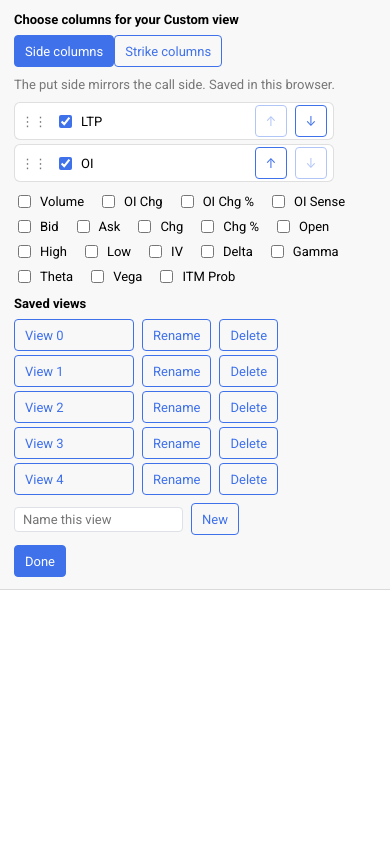
Test case: ColumnChooserComponent › clears the limit error on the next edit
Type "Sixth" into the field with placeholder "Name this view" at (98, 519), box [14, 506, 183, 532]
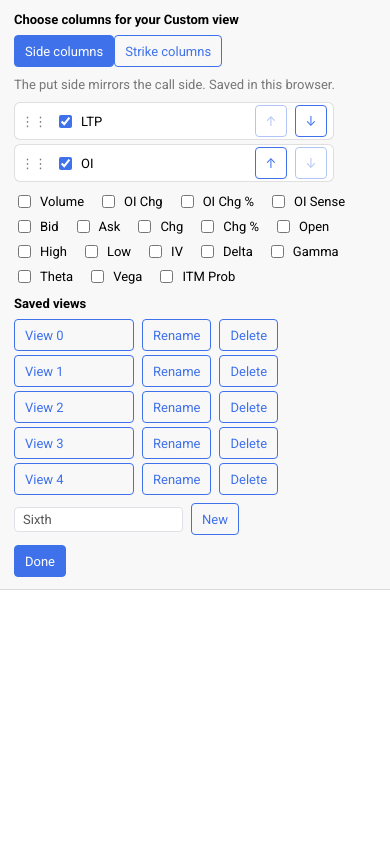
Click the button "New" at (215, 519), box [191, 503, 239, 535]
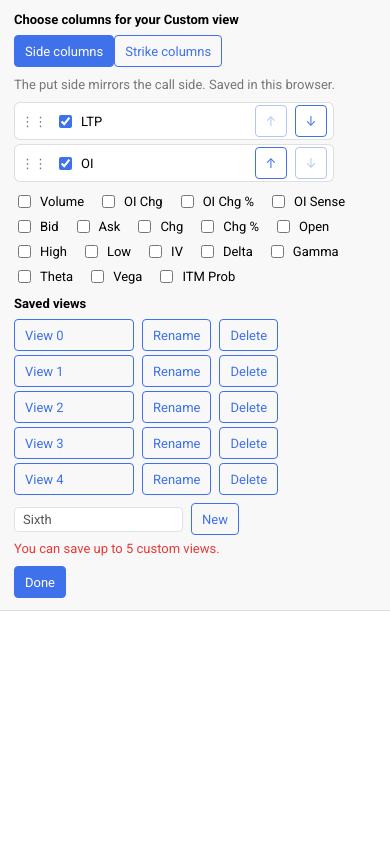
Check: the message "You can save up to 5 custom views." is shown, box [14, 541, 220, 556]
Click the 2nd button "Delete" at (249, 371), box [220, 355, 278, 387]
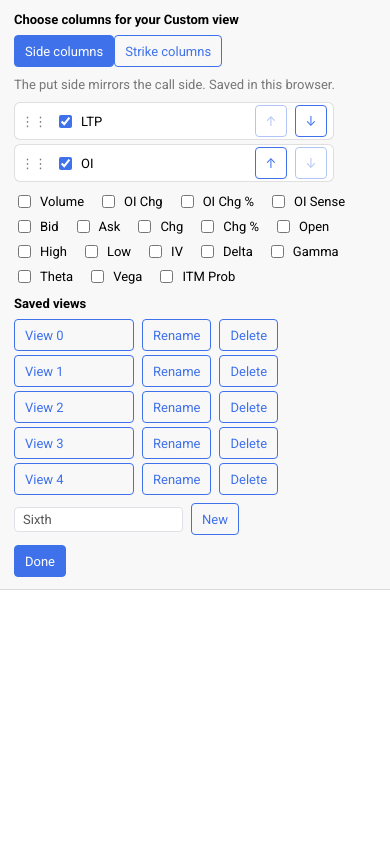
Check: the message "You can save up to 5 custom views." is gone
